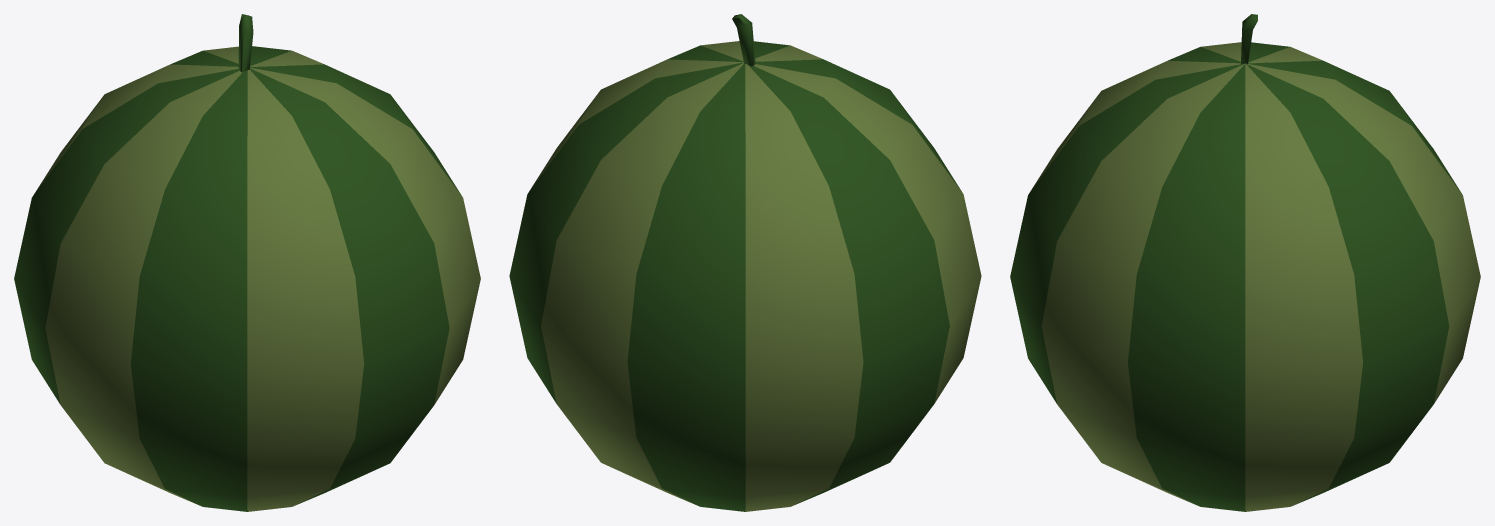
The model's file is green_05.glb.
The picture shows the model from 3 angles, left to right: view 1: azimuth 30°, elevation 25°; view 2: azimuth 150°, elevation 25°; view 3: azimuth 270°, elevation 25°; orthographic projection.
Parts seen in each view (by area): view 1: green_05; view 2: green_05; view 3: green_05.
Boxes of the visible parts, x1,y1,x2,y2 form: green_05: (14, 14, 480, 511); green_05: (509, 14, 981, 511); green_05: (1010, 14, 1480, 511).
Bounding box in the file's own units: 0.4684 × 0.5233 × 0.4684.
Materials: 1 (1 with a texture image).
